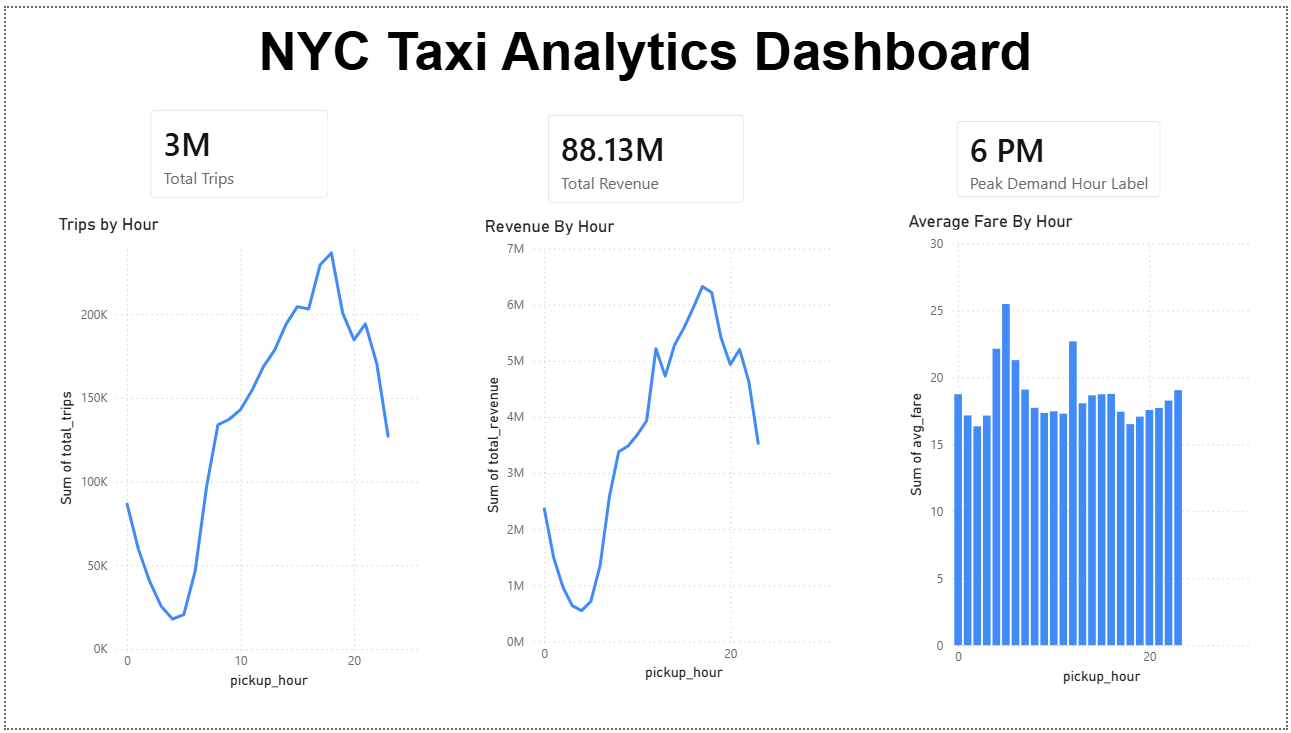

What the dashboard file says about the page in this screenshot:
{"tool":"powerbi","page":{"name":"Page 1","canvas":[1280,720],"ordinal":0},"visuals":[{"type":"lineChart","title":"Trips by Hour","fields":{"Category":["hourly_stats.pickup_hour"],"Y":["Sum(hourly_stats.total_trips)"]},"box":[47.5,206.2,372.5,478.8],"z":0},{"type":"lineChart","title":"Revenue By Hour","fields":{"Category":["hourly_stats.pickup_hour"],"Y":["Sum(hourly_stats.total_revenue)"]},"box":[473.8,207.5,358.8,470],"z":1000},{"type":"clusteredColumnChart","title":"Average Fare By Hour","fields":{"Category":["hourly_stats.pickup_hour"],"Y":["Sum(hourly_stats.avg_fare)"]},"box":[897.5,202.5,353.8,478.8],"z":2000},{"type":"cardVisual","title":"Total Trips","fields":{"Data":["Sum(hourly_stats.total_trips)"]},"box":[127.5,85,212.5,122.5],"z":3000},{"type":"cardVisual","title":"Total Revenue","fields":{"Data":["Sum(hourly_stats.total_revenue)"]},"box":[525,90,230,122.5],"z":4000},{"type":"cardVisual","fields":{"Data":["hourly_stats.Peak Demand Hour Label"]},"box":[933.8,96.2,238.8,110],"z":5000},{"type":"textbox","box":[247.5,8.8,812.5,76.2],"z":5001}]}

Visuals, with their boxes in screenshot pixels (x1, y1, x2, y2), scaled from the page's 1280x720 canvas onto the 1291x733 screenshot:
"Trips by Hour" lineChart: {"x1": 48, "y1": 210, "x2": 424, "y2": 697}
"Revenue By Hour" lineChart: {"x1": 478, "y1": 211, "x2": 840, "y2": 690}
"Average Fare By Hour" clusteredColumnChart: {"x1": 905, "y1": 206, "x2": 1262, "y2": 694}
"Total Trips" cardVisual: {"x1": 129, "y1": 87, "x2": 343, "y2": 211}
"Total Revenue" cardVisual: {"x1": 530, "y1": 92, "x2": 761, "y2": 216}
cardVisual - hourly_stats.Peak Demand Hour Label: {"x1": 942, "y1": 98, "x2": 1183, "y2": 210}
textbox: {"x1": 250, "y1": 9, "x2": 1069, "y2": 87}
